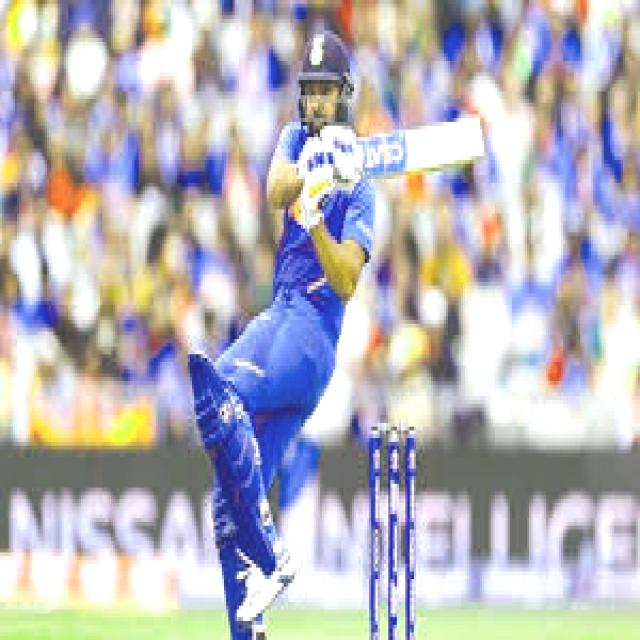toe: (452, 112, 484, 170)
